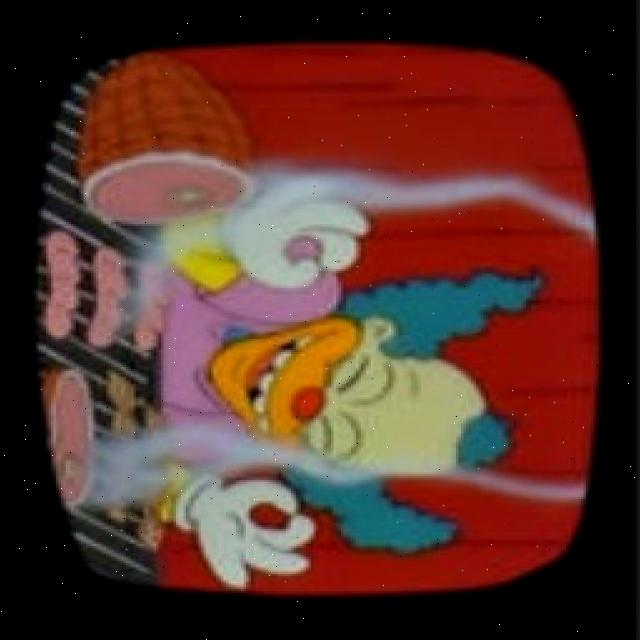Krusty the Clown: (200, 268, 555, 556)
